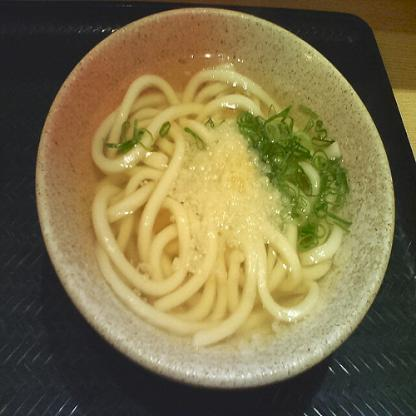Noodles: (89, 60, 347, 348)
